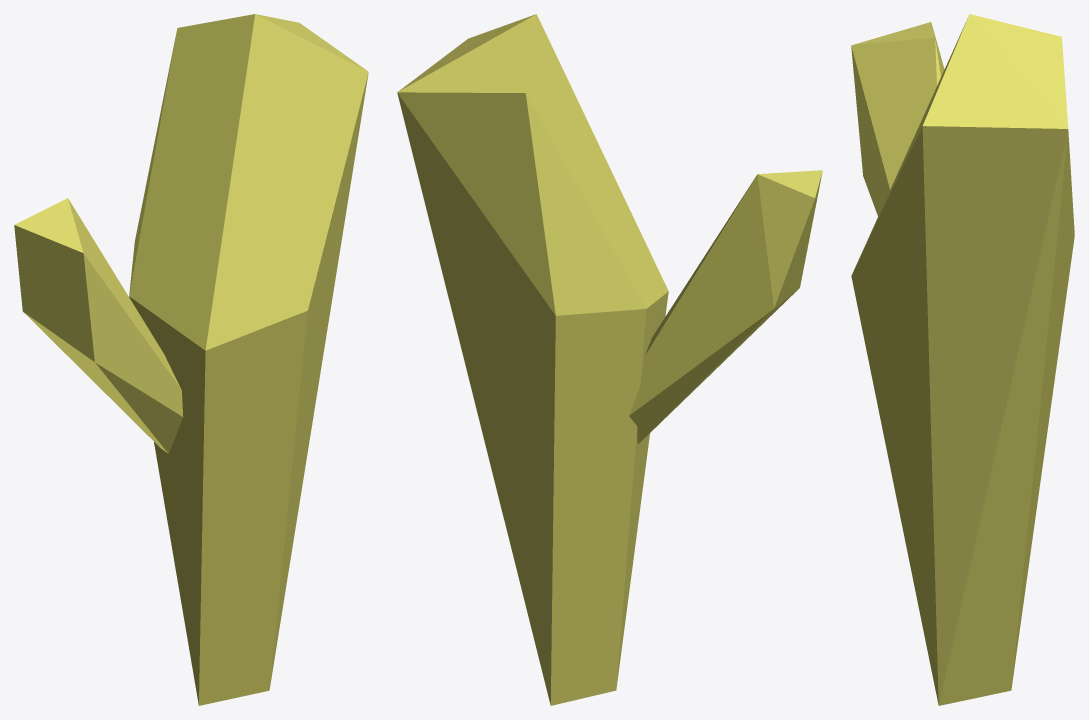
Rendered from Model_Desert_Plants6.fbx.
The picture shows the model from 3 angles, left to right: view 1: azimuth 30°, elevation 25°; view 2: azimuth 150°, elevation 25°; view 3: azimuth 270°, elevation 25°; orthographic projection. The views are drawn at different scales.
Visible parts, largest first — view 1: cao6; view 2: cao6; view 3: cao6.
Boxes of the visible parts, x1,y1,x2,y2 form: cao6: (14, 14, 368, 705); cao6: (397, 14, 822, 705); cao6: (851, 14, 1074, 705).
Bounding box in the file's own units: 36.47 × 66.24 × 19.35.
1 material, 1 textured.
